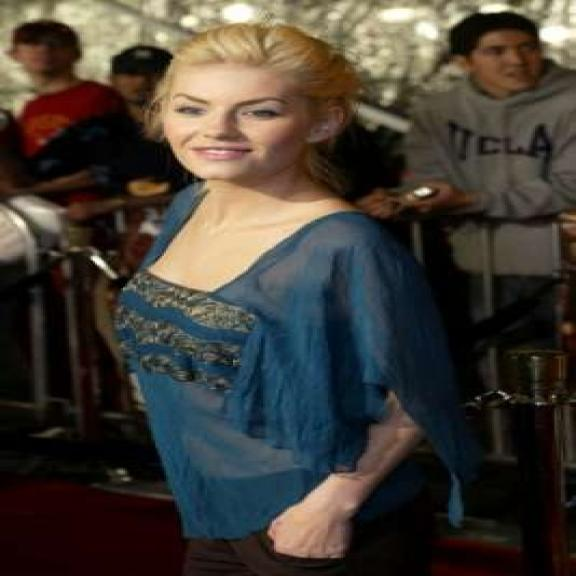face: (156, 62, 360, 179), (436, 27, 559, 92), (7, 34, 82, 77), (110, 74, 162, 104)
